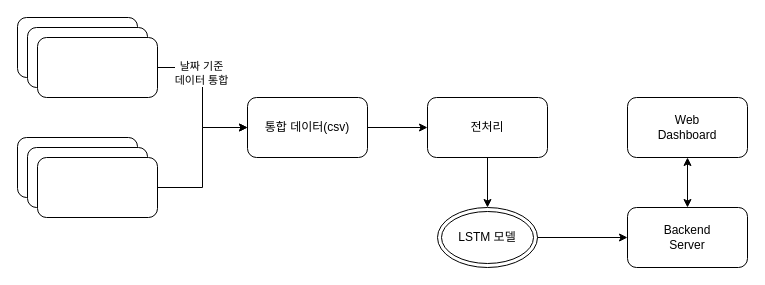
This 765x285 diagram has some shape labels left out. Each missing label, with the centre of its shape:
기상청 api(단위 : 1시간): the point at 97,67
네이버 과거 날씨 크롤링(단위 : 하루): the point at 97,187
